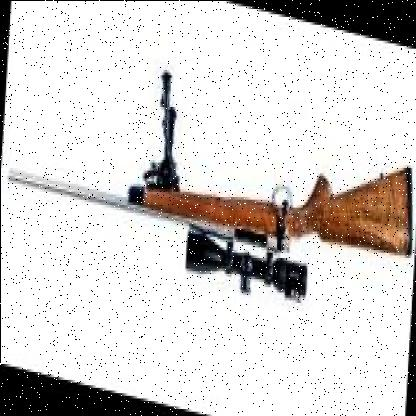rifle: (5, 22, 416, 300)
